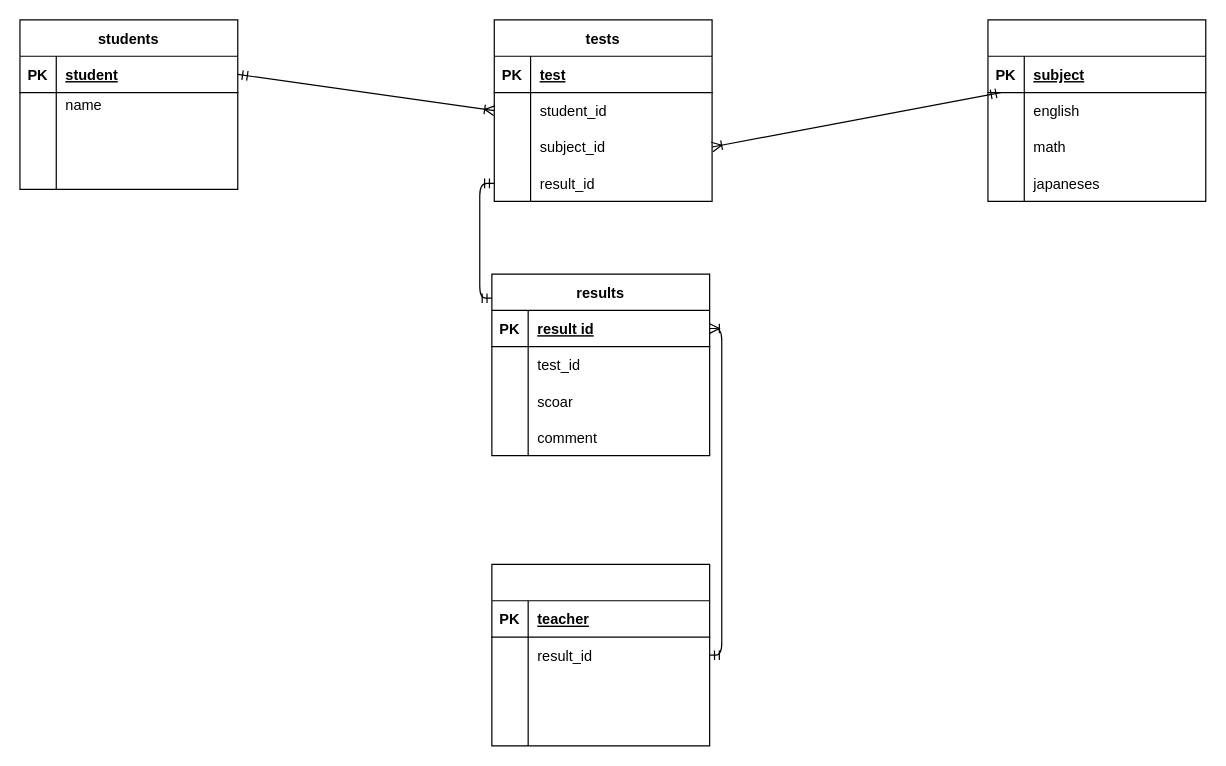
The diagram is 1226 pixels wide and 766 high, and some of its shapes have lost their labels. Each missing label, with the box of its shape:
subjects: (987, 19, 1206, 201)
teachers: (491, 563, 710, 746)
